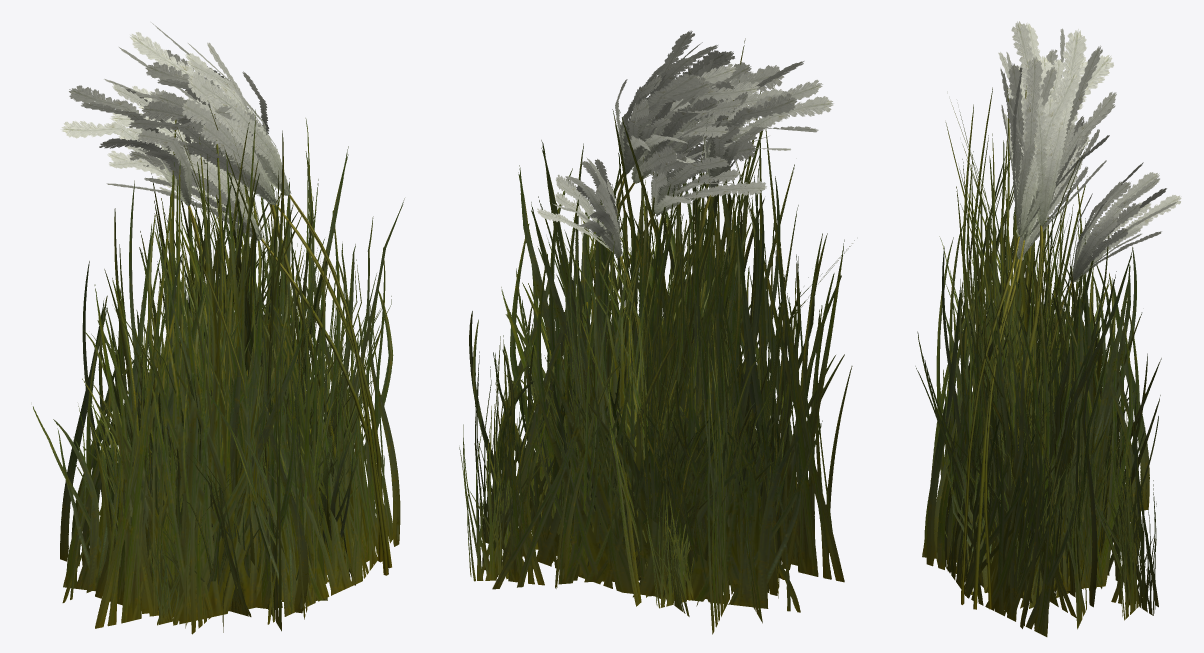
The model's file is SM_KB3D_SHG_VegGrass.fbx.
3 views of the same model, side by side, from view 1: azimuth 30°, elevation 25°; view 2: azimuth 150°, elevation 25°; view 3: azimuth 270°, elevation 25° (orthographic). The views are drawn at different scales.
Parts seen in each view (by area): view 1: KB3D_SHG_VegGrass_A_Main, KB3D_SHG_VegGrass_I_Main, KB3D_SHG_VegGrass_O_Main, KB3D_SHG_VegGrass_K_Main, KB3D_SHG_VegGrass_J_Main, KB3D_SHG_VegGrass_X_Main, KB3D_SHG_VegGrass_V_Main, KB3D_SHG_VegGrass_S_Main, KB3D_SHG_VegGrass_M_Main, KB3D_SHG_VegGrass_F_Main, KB3D_SHG_VegGrass_H_Main, KB3D_SHG_VegGrass_W_Main (+5 smaller); view 2: KB3D_SHG_VegGrass_I_Main, KB3D_SHG_VegGrass_A_Main, KB3D_SHG_VegGrass_K_Main, KB3D_SHG_VegGrass_O_Main, KB3D_SHG_VegGrass_S_Main, KB3D_SHG_VegGrass_H_Main, KB3D_SHG_VegGrass_J_Main, KB3D_SHG_VegGrass_G_Main, KB3D_SHG_VegGrass_X_Main, KB3D_SHG_VegGrass_B_Main, KB3D_SHG_VegGrass_M_Main, KB3D_SHG_VegGrass_F_Main (+8 smaller); view 3: KB3D_SHG_VegGrass_K_Main, KB3D_SHG_VegGrass_O_Main, KB3D_SHG_VegGrass_A_Main, KB3D_SHG_VegGrass_I_Main, KB3D_SHG_VegGrass_V_Main, KB3D_SHG_VegGrass_J_Main, KB3D_SHG_VegGrass_B_Main, KB3D_SHG_VegGrass_X_Main, KB3D_SHG_VegGrass_H_Main, KB3D_SHG_VegGrass_W_Main, KB3D_SHG_VegGrass_F_Main, KB3D_SHG_VegGrass_G_Main (+5 smaller).
Boxes of the visible parts, left/top/right/bottom form: KB3D_SHG_VegGrass_A_Main: left=60, top=161, right=392, bottom=628; KB3D_SHG_VegGrass_I_Main: left=33, top=194, right=393, bottom=634; KB3D_SHG_VegGrass_O_Main: left=60, top=84, right=391, bottom=631; KB3D_SHG_VegGrass_K_Main: left=91, top=97, right=404, bottom=619; KB3D_SHG_VegGrass_J_Main: left=88, top=109, right=384, bottom=632; KB3D_SHG_VegGrass_X_Main: left=110, top=22, right=382, bottom=562; KB3D_SHG_VegGrass_V_Main: left=104, top=32, right=388, bottom=575; KB3D_SHG_VegGrass_S_Main: left=112, top=146, right=352, bottom=577; KB3D_SHG_VegGrass_M_Main: left=106, top=118, right=391, bottom=568; KB3D_SHG_VegGrass_F_Main: left=148, top=197, right=356, bottom=628; KB3D_SHG_VegGrass_H_Main: left=86, top=303, right=341, bottom=610; KB3D_SHG_VegGrass_W_Main: left=137, top=60, right=342, bottom=503; KB3D_SHG_VegGrass_I_Main: left=469, top=176, right=822, bottom=623; KB3D_SHG_VegGrass_A_Main: left=472, top=117, right=852, bottom=634; KB3D_SHG_VegGrass_K_Main: left=492, top=109, right=854, bottom=598; KB3D_SHG_VegGrass_O_Main: left=495, top=38, right=833, bottom=606; KB3D_SHG_VegGrass_S_Main: left=537, top=140, right=777, bottom=595; KB3D_SHG_VegGrass_H_Main: left=459, top=335, right=810, bottom=586; KB3D_SHG_VegGrass_J_Main: left=509, top=71, right=791, bottom=597; KB3D_SHG_VegGrass_G_Main: left=543, top=355, right=795, bottom=599; KB3D_SHG_VegGrass_X_Main: left=590, top=30, right=784, bottom=309; KB3D_SHG_VegGrass_B_Main: left=552, top=215, right=772, bottom=598; KB3D_SHG_VegGrass_M_Main: left=608, top=119, right=766, bottom=312; KB3D_SHG_VegGrass_F_Main: left=543, top=187, right=797, bottom=616; KB3D_SHG_VegGrass_K_Main: left=926, top=140, right=1161, bottom=628; KB3D_SHG_VegGrass_O_Main: left=915, top=21, right=1181, bottom=617; KB3D_SHG_VegGrass_A_Main: left=934, top=247, right=1149, bottom=636; KB3D_SHG_VegGrass_I_Main: left=957, top=155, right=1133, bottom=629; KB3D_SHG_VegGrass_V_Main: left=961, top=45, right=1116, bottom=604; KB3D_SHG_VegGrass_J_Main: left=944, top=85, right=1131, bottom=608; KB3D_SHG_VegGrass_B_Main: left=944, top=217, right=1139, bottom=595; KB3D_SHG_VegGrass_X_Main: left=984, top=29, right=1099, bottom=609; KB3D_SHG_VegGrass_H_Main: left=940, top=339, right=1156, bottom=620; KB3D_SHG_VegGrass_W_Main: left=1004, top=57, right=1084, bottom=537; KB3D_SHG_VegGrass_F_Main: left=943, top=226, right=1143, bottom=608; KB3D_SHG_VegGrass_G_Main: left=952, top=339, right=1137, bottom=596.
Size of the model in its own units: 123 by 170 by 86.48.
